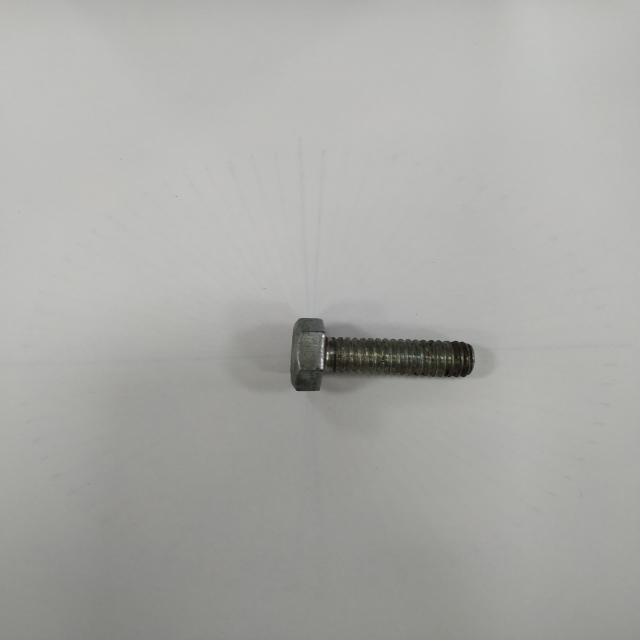Bolt: (290, 318, 473, 391)
